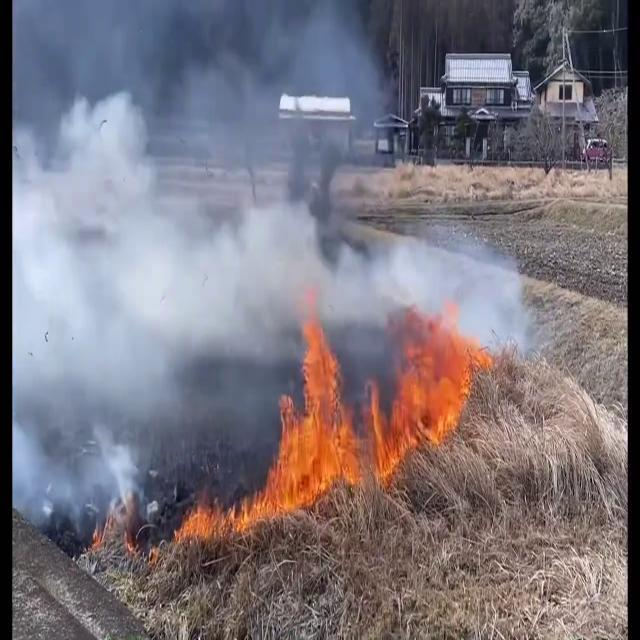Fire: (264, 306, 498, 495), (174, 478, 285, 568)
Smoke: (12, 0, 392, 532), (372, 218, 527, 354)
